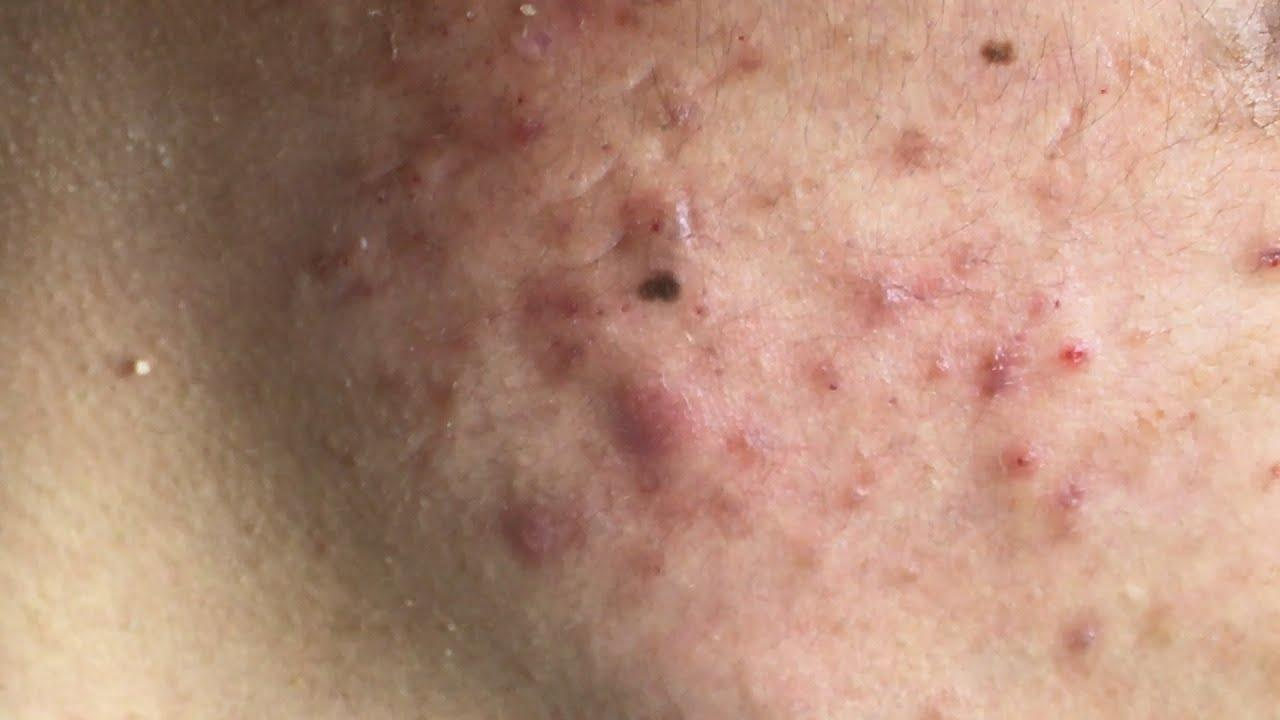cystic: (604, 373, 717, 470), (829, 466, 891, 543), (994, 431, 1055, 492), (865, 272, 921, 328), (1104, 522, 1163, 568), (1125, 273, 1160, 332)
sebo-crystan-conglo: (284, 165, 463, 319), (427, 60, 543, 139), (532, 274, 637, 351)
